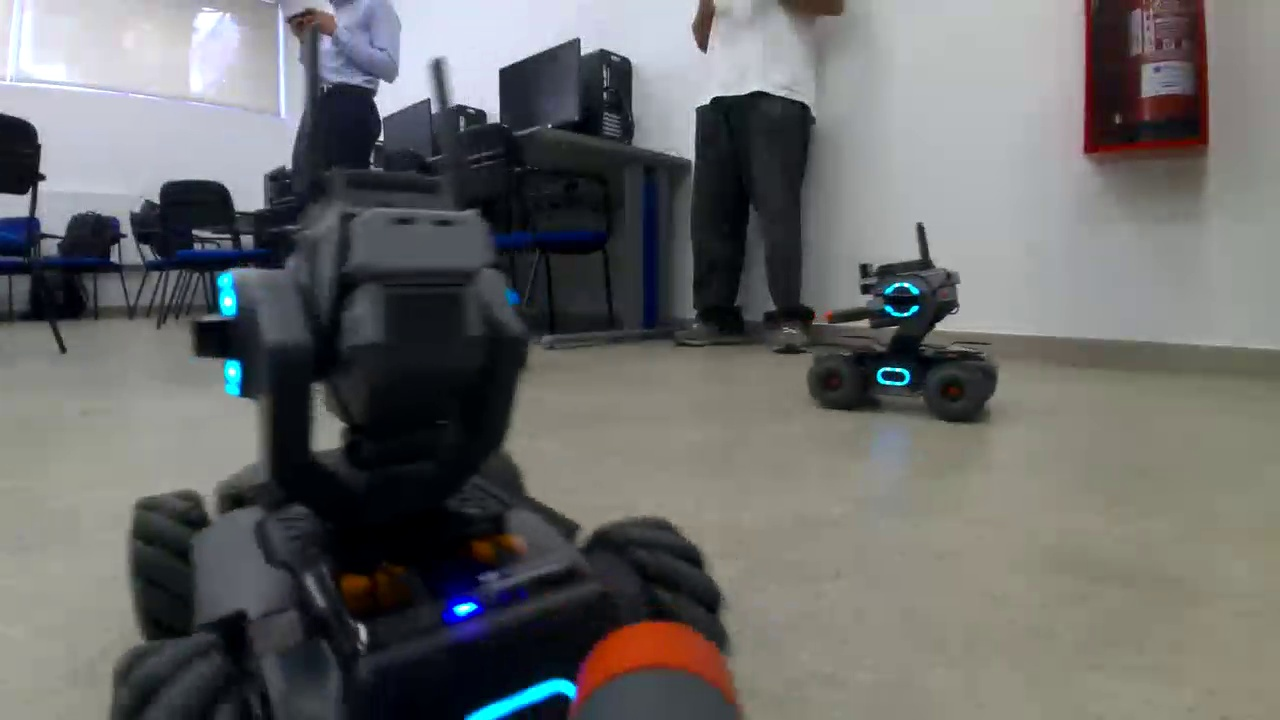robot: (105, 164, 763, 720), (801, 252, 1005, 415)
